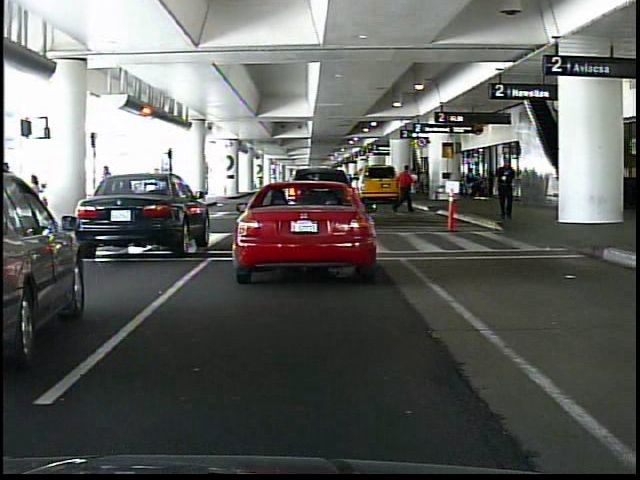person: (95, 162, 126, 240), (25, 170, 48, 238), (498, 155, 519, 223), (398, 163, 416, 217), (404, 165, 418, 201)
